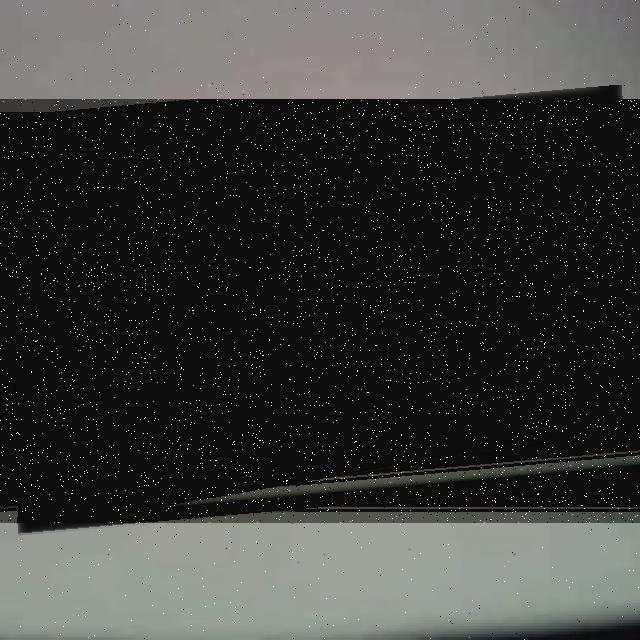dua ribu rupiah: (0, 99, 640, 523)
